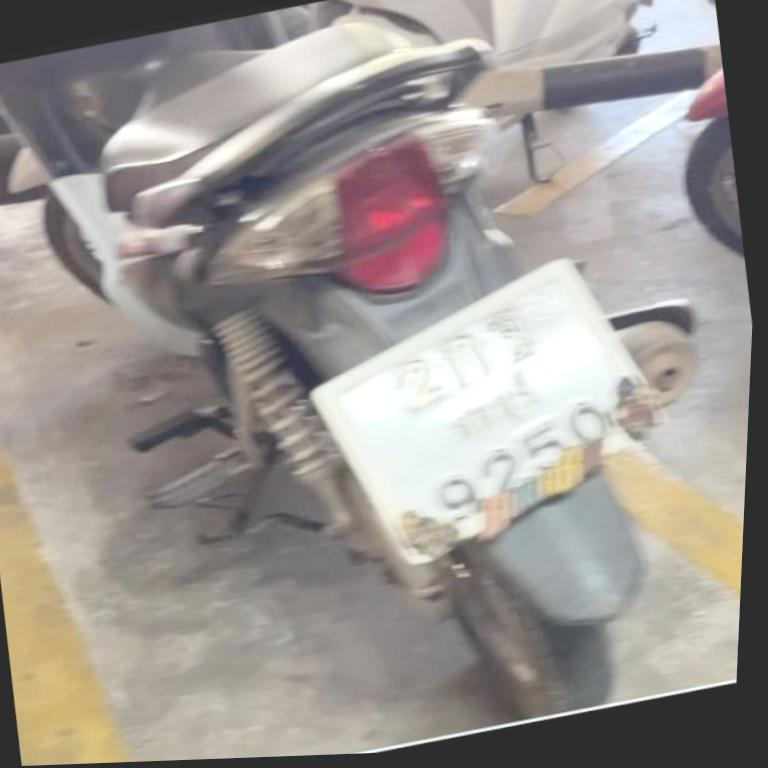license plate: (283, 231, 697, 590)
